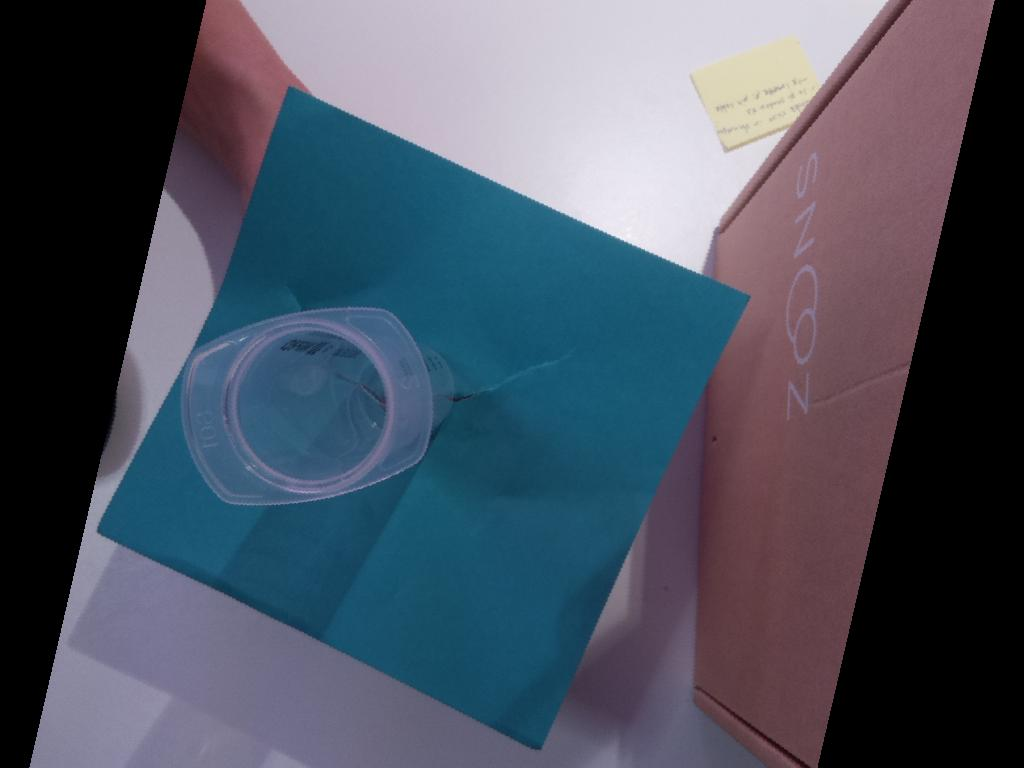clean: (180, 306, 434, 503)
